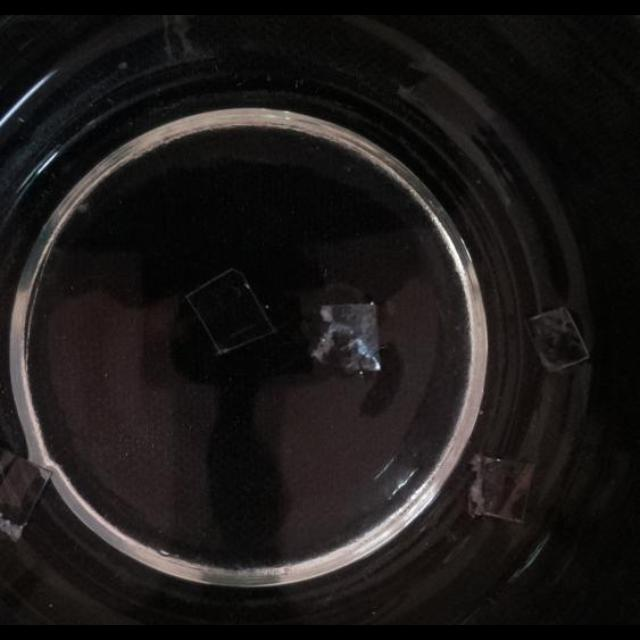Film: (182, 268, 276, 352), (311, 299, 387, 375), (0, 445, 50, 548), (468, 454, 536, 524), (530, 308, 590, 376)
